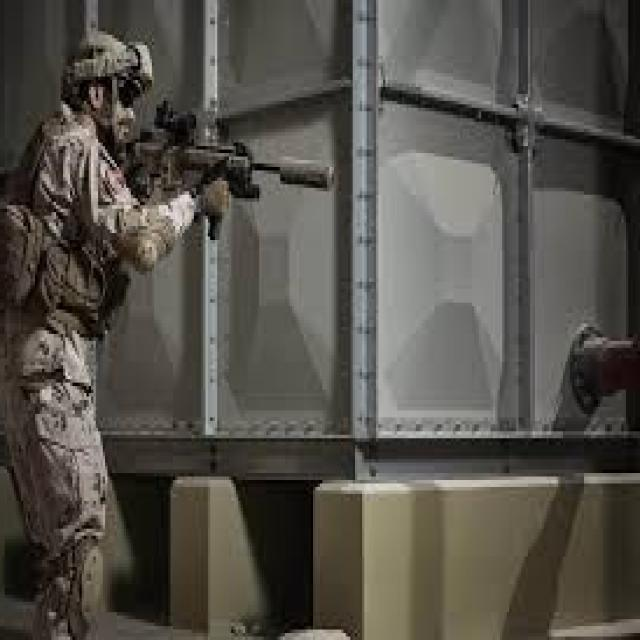Gun: (126, 102, 370, 230)
